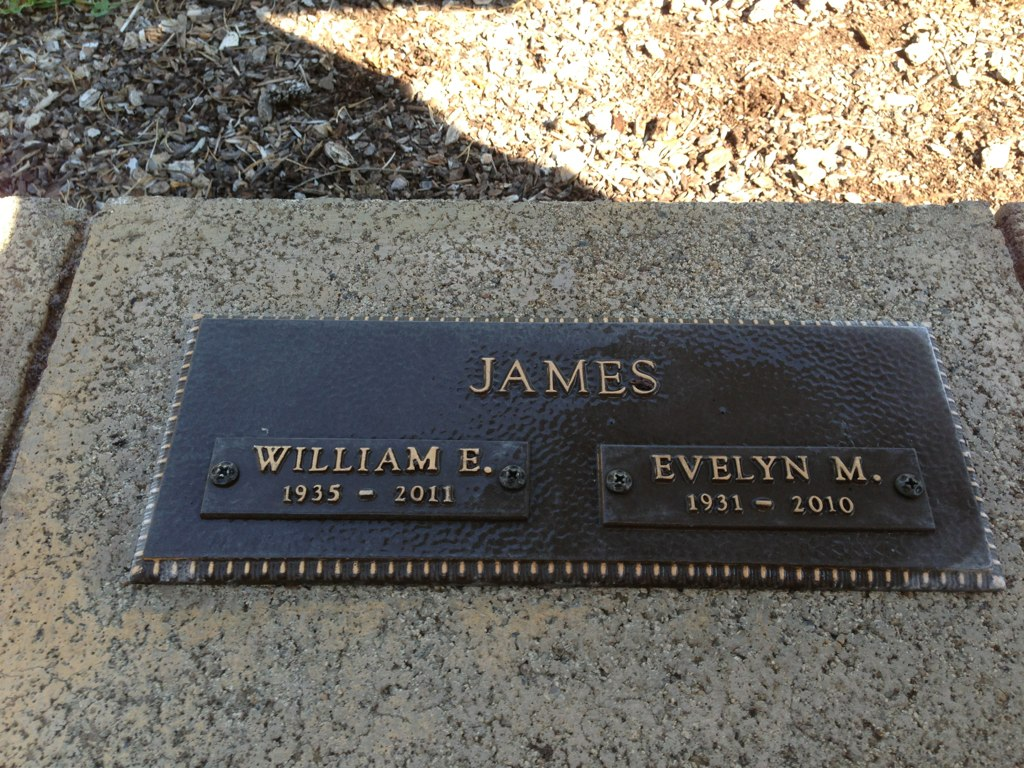flat: (119, 308, 1009, 601)
